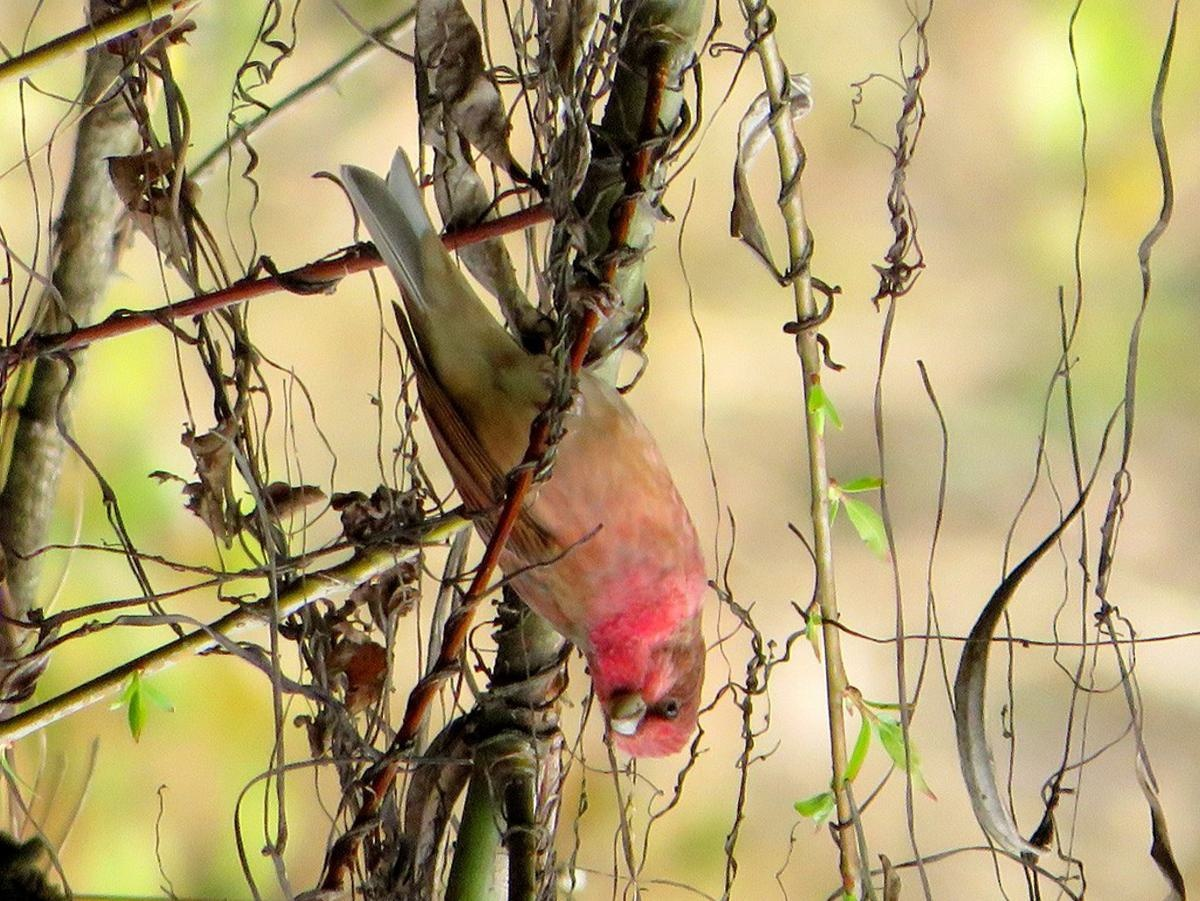rosefinch: (413, 232, 730, 755)
